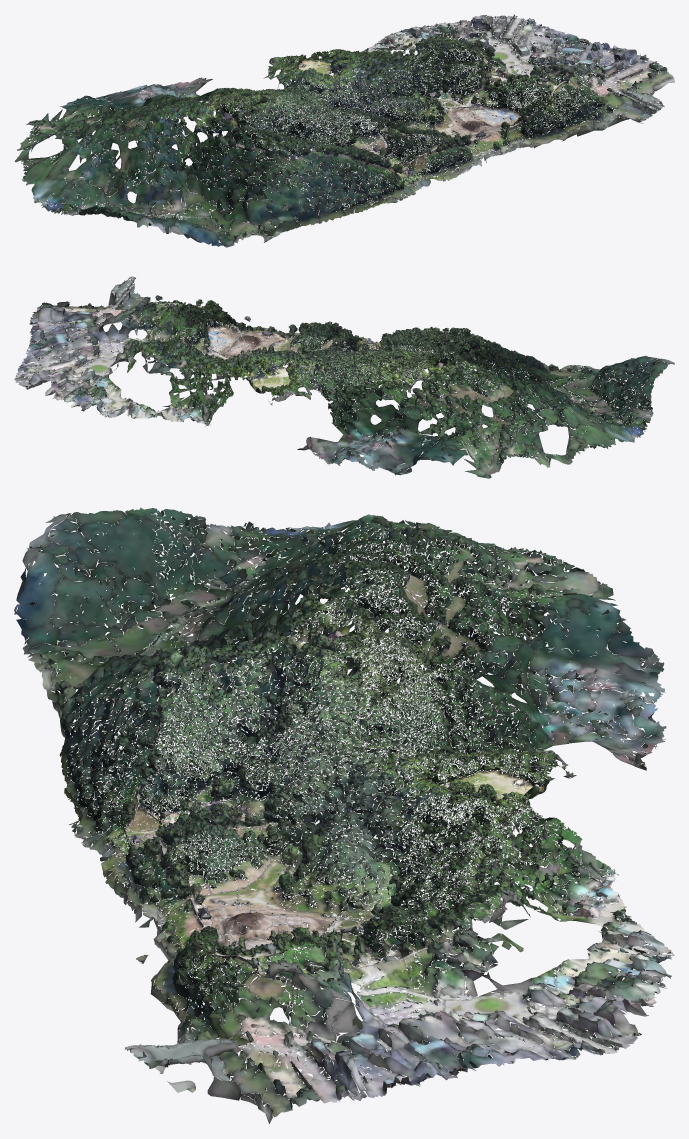
Rendered from scan.glb.
The picture shows the model from 3 angles, top to bottom: view 1: azimuth 30°, elevation 25°; view 2: azimuth 150°, elevation 25°; view 3: azimuth 270°, elevation 25°; orthographic projection. The views are drawn at different scales.
Visible parts, largest first — view 1: object 16, object 12, object 17, MeshTransform, object 7, object 2, object 15, object 24, object 10, object 18, object 19, object 4 (+13 smaller); view 2: object 12, MeshTransform, object 19, object 16, object 2, object 21, object 17, object 18, object 4, object 9, object 24, object 7 (+13 smaller); view 3: object 16, MeshTransform, object 7, object 2, object 12, object 21, object 19, object 17, object 18, object 4, object 9, object 6 (+13 smaller).
Boxes of the visible parts, <box> form: object 16: <box>79,139,383,247</box>; object 12: <box>15,108,388,211</box>; object 17: <box>43,120,361,225</box>; MeshTransform: <box>392,14,663,95</box>; object 7: <box>326,63,674,131</box>; object 2: <box>360,33,628,105</box>; object 15: <box>289,113,421,212</box>; object 24: <box>184,55,664,186</box>; object 10: <box>361,93,648,149</box>; object 18: <box>60,95,324,150</box>; object 19: <box>88,85,258,129</box>; object 4: <box>310,49,495,121</box>; object 12: <box>329,347,640,478</box>; MeshTransform: <box>14,304,171,416</box>; object 19: <box>359,353,490,475</box>; object 16: <box>416,327,674,409</box>; object 2: <box>52,296,211,421</box>; object 21: <box>310,349,430,465</box>; object 17: <box>393,328,653,436</box>; object 18: <box>406,337,519,465</box>; object 4: <box>171,338,261,426</box>; object 9: <box>204,318,325,361</box>; object 24: <box>122,276,371,456</box>; object 7: <box>41,277,325,367</box>; object 16: <box>14,507,235,816</box>; MeshTransform: <box>239,896,674,1106</box>; object 7: <box>126,767,440,1123</box>; object 2: <box>264,876,673,1077</box>; object 12: <box>231,514,615,822</box>; object 21: <box>296,634,666,760</box>; object 19: <box>295,563,665,716</box>; object 17: <box>151,515,318,776</box>; object 18: <box>203,541,631,746</box>; object 4: <box>286,785,624,947</box>; object 9: <box>188,810,307,956</box>; object 6: <box>274,770,464,907</box>.
Bounding box in the file's own units: 45.8 × 5.98 × 23.01.
Materials: 1 (1 with a texture image).
